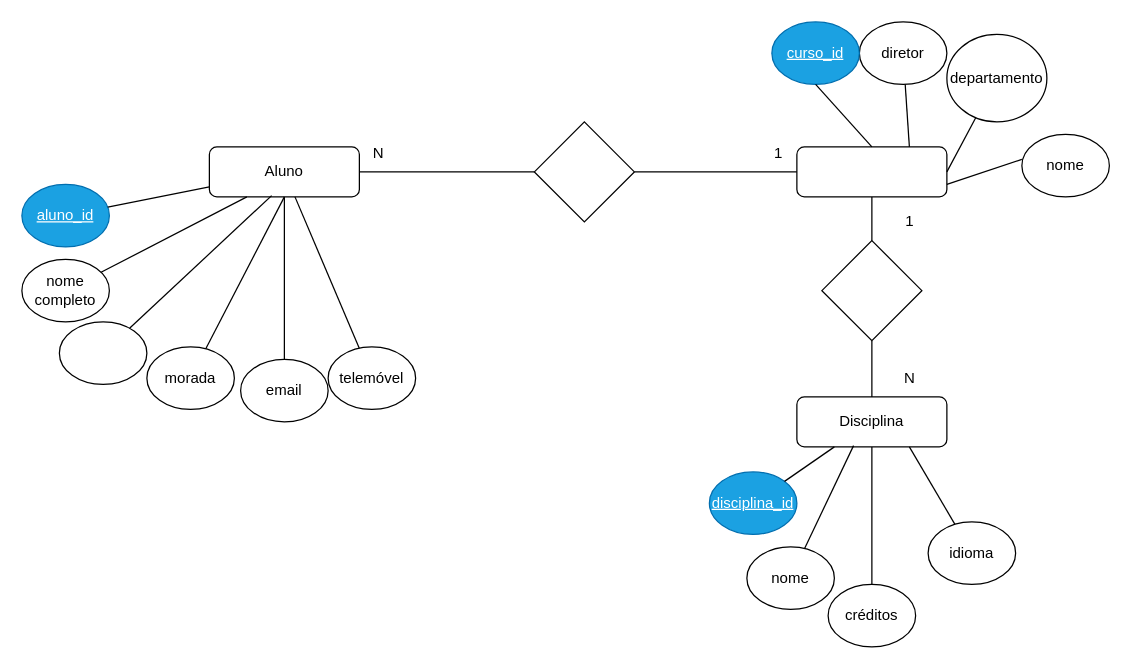
This 1131x669 diagram has some shape labels left out. Each missing label, with the centre of its shape:
"Curso" goes at (871,171).
"data de nascimento" goes at (102,352).
"Inscrito" goes at (583,171).
"Tem" goes at (871,290).
